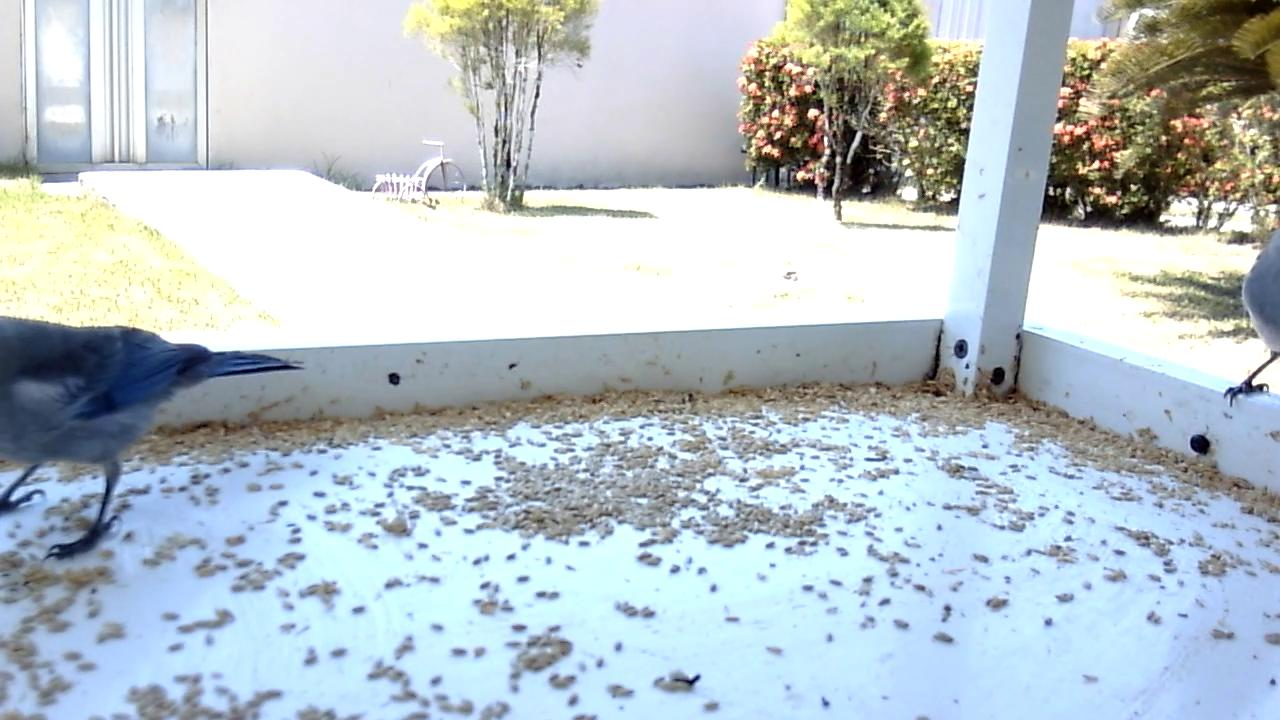sanhaco_da_amazonia: (1, 307, 307, 564), (1221, 209, 1280, 411)
